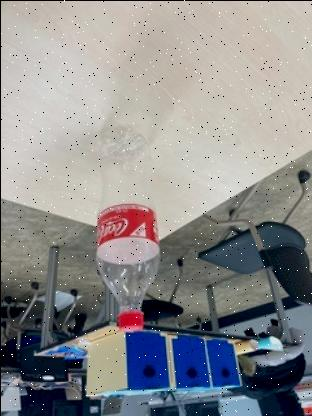Plastic Bottle: (90, 121, 160, 336)
